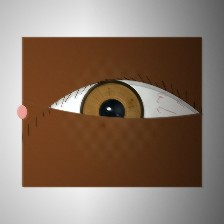pinguecula_lesion: (32, 95, 82, 135)
